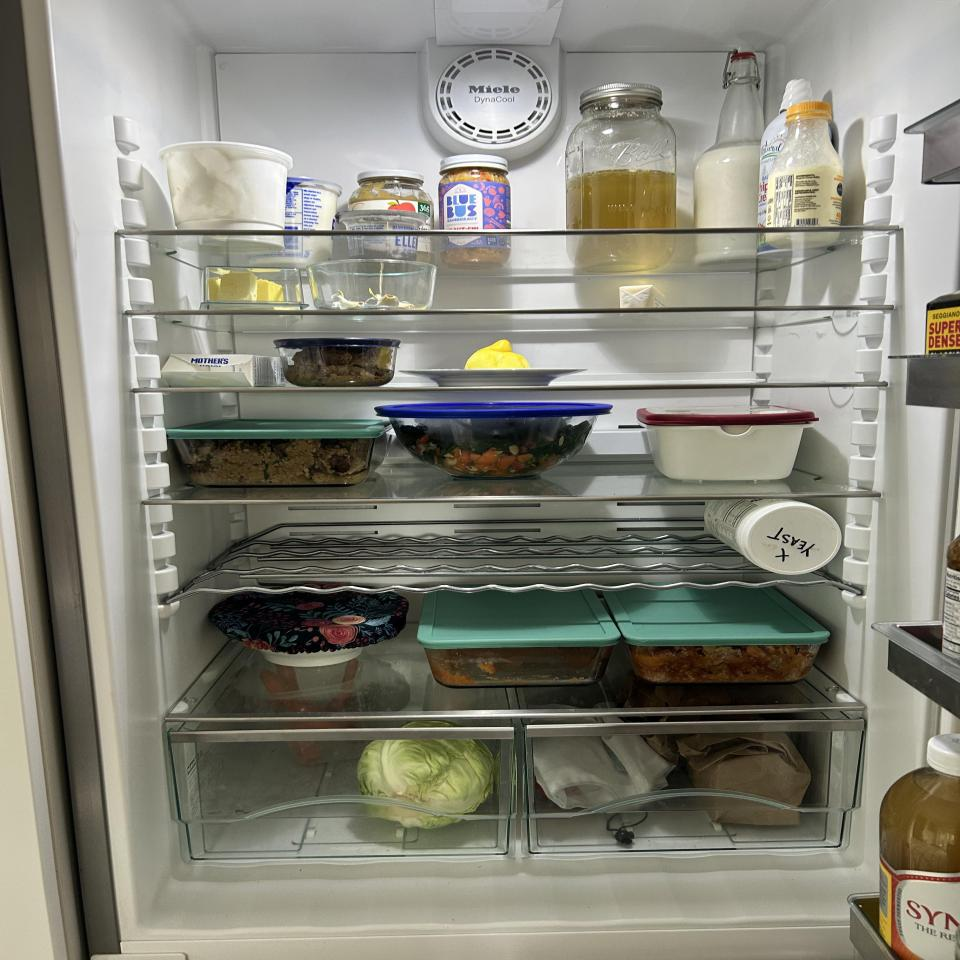Limón: (465, 338, 531, 370)
Mantequilla: (203, 268, 289, 302)
